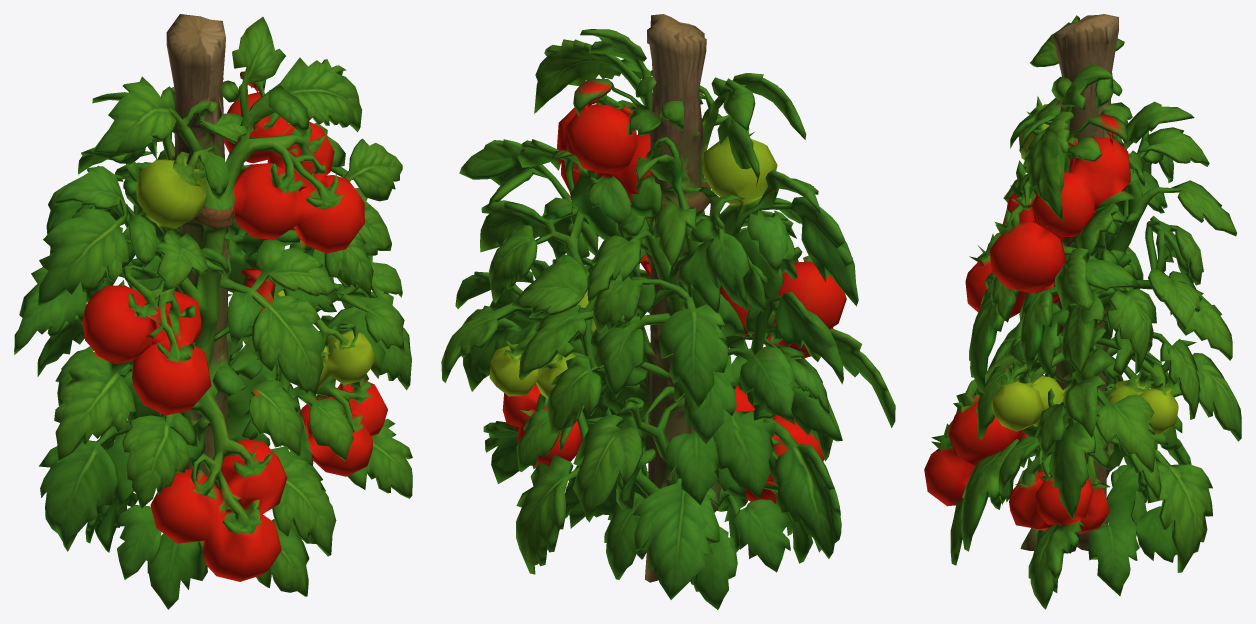
Rendered from crop_tomato_ready.glb.
3 renders of one model, left to right at view 1: azimuth 30°, elevation 25°; view 2: azimuth 150°, elevation 25°; view 3: azimuth 270°, elevation 25°, orthographic. The views are drawn at different scales.
Visible parts, largest first — view 1: tripo_node_9a5716b6-84ad-4b0c-b737-e45f274bafce; view 2: tripo_node_9a5716b6-84ad-4b0c-b737-e45f274bafce; view 3: tripo_node_9a5716b6-84ad-4b0c-b737-e45f274bafce.
Part boxes in pixels (bbox=[...]): tripo_node_9a5716b6-84ad-4b0c-b737-e45f274bafce: bbox=[14, 14, 412, 609]; tripo_node_9a5716b6-84ad-4b0c-b737-e45f274bafce: bbox=[441, 14, 895, 609]; tripo_node_9a5716b6-84ad-4b0c-b737-e45f274bafce: bbox=[924, 14, 1241, 609].
Bounding box in the file's own units: 0.7375 × 0.9789 × 0.5306.
Materials: 1 (1 with a texture image).
